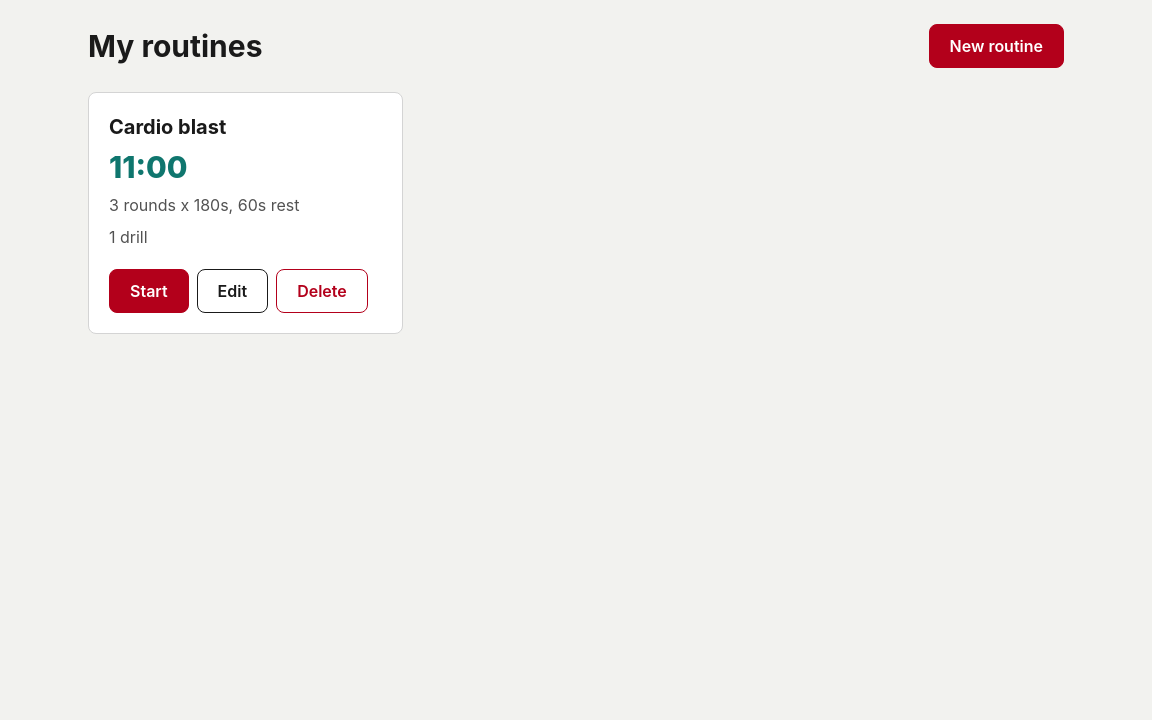
Test: Routines page › deletes a routine after the user confirms
Click the button "Delete": [322, 291] box [276,269,368,313]
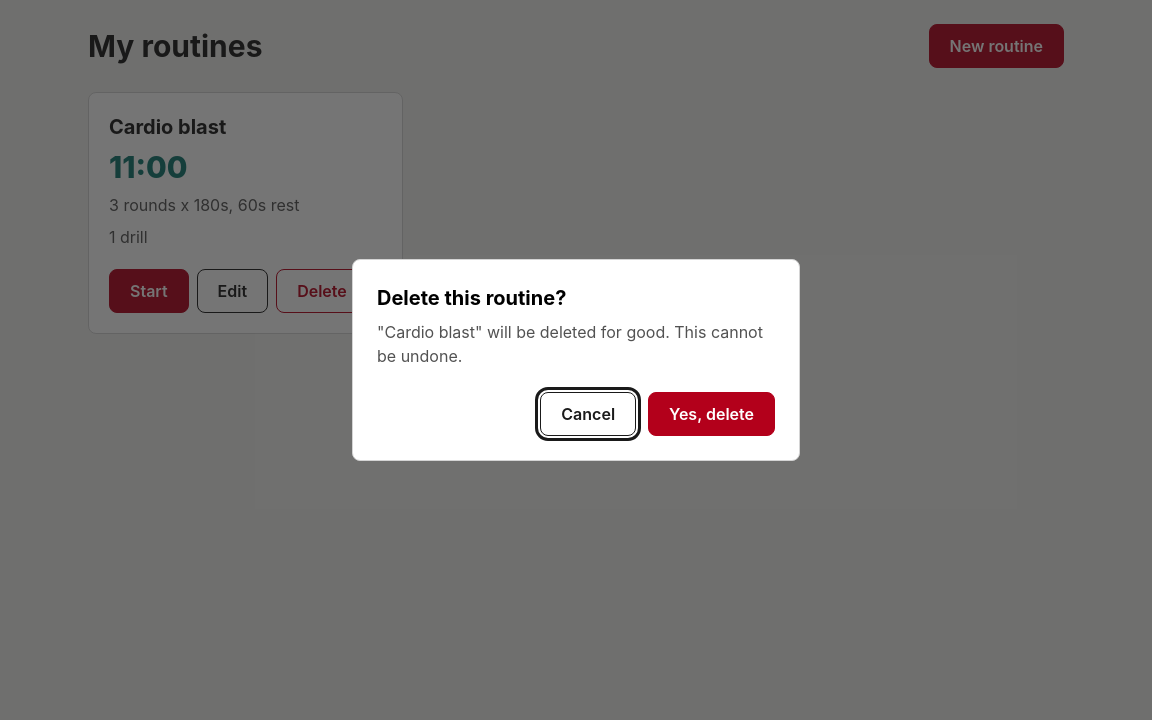
Click the button "Yes, delete": [712, 414] box [648,392,775,436]
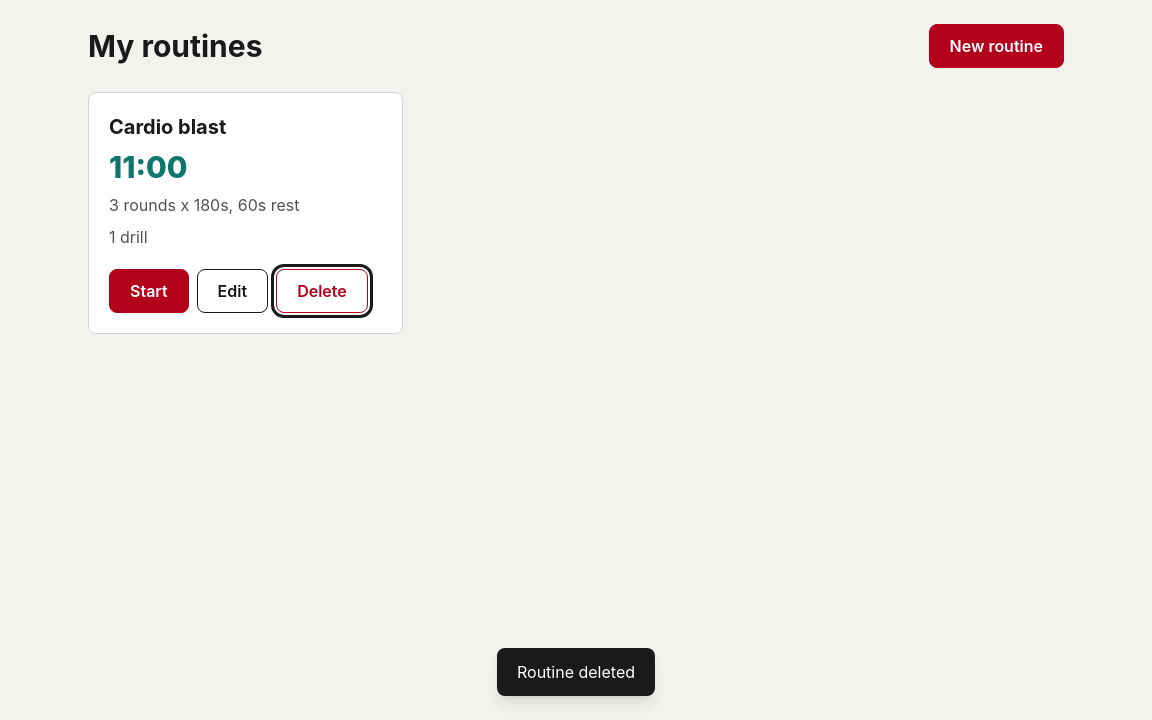
Check: the text "Routine deleted" is shown, box [497,648,655,696]
